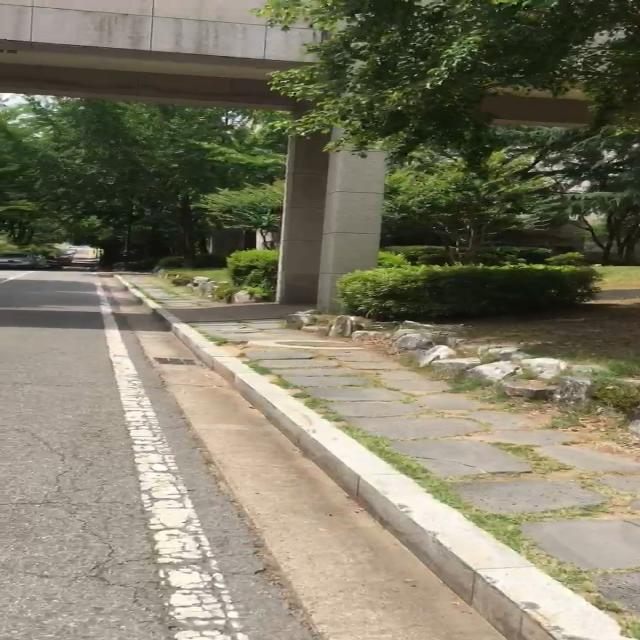obstacle: (0, 253, 72, 270)
road: (0, 271, 505, 640)
sidewalk: (112, 270, 640, 640)
